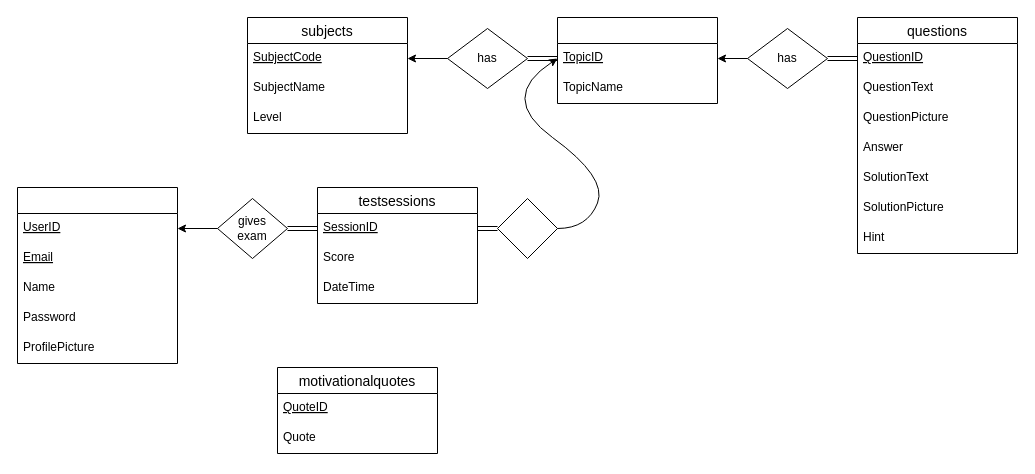
Image size: 1035x474. Some labels were removed from this diagram. Each missing label, with the box of its shape:
of: (496, 198, 558, 258)
students: (16, 186, 178, 364)
topics: (556, 16, 718, 104)
